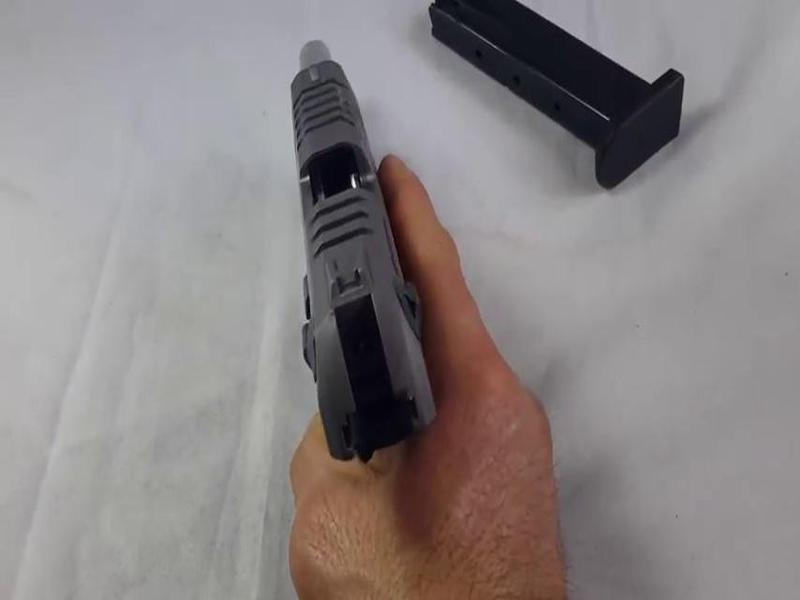Pistola: (228, 29, 483, 489)
